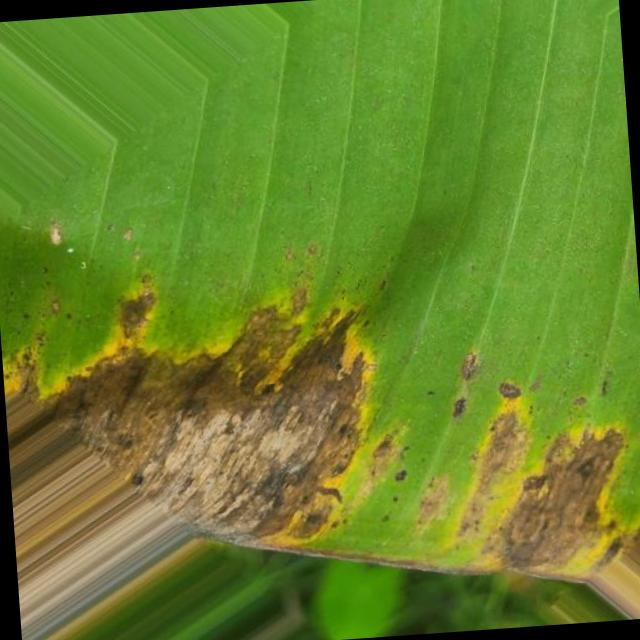Banana_Black_Sigatoka: (8, 259, 394, 585), (445, 349, 640, 579)
